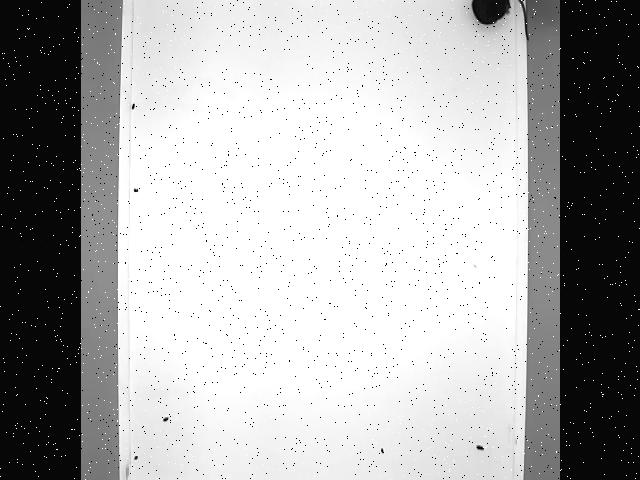Tikus: (466, 0, 530, 53)
